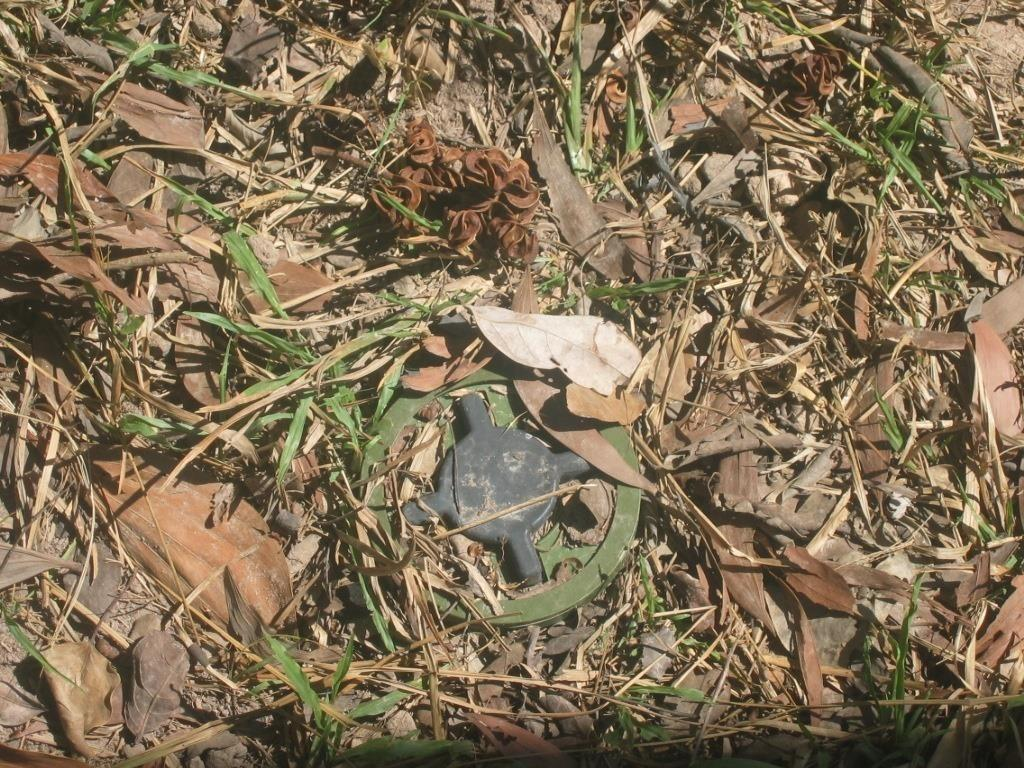pmn: (344, 348, 647, 637)
